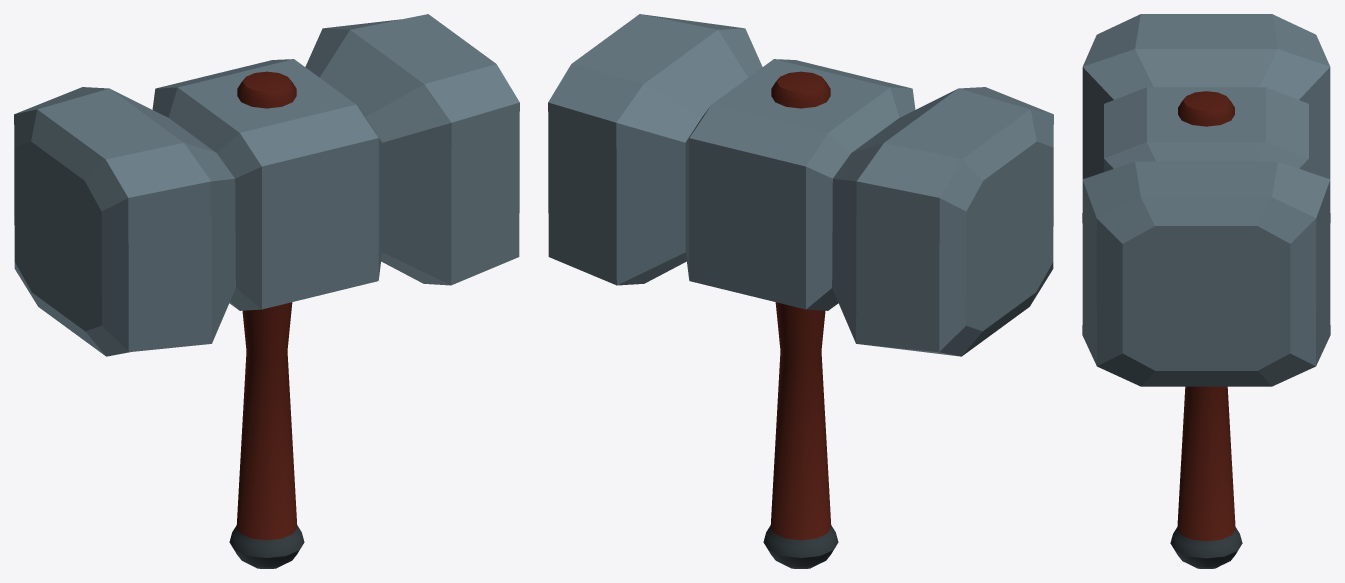
The model's file is hammer_uncommon.obj.
3 renders of one model, left to right at view 1: azimuth 30°, elevation 25°; view 2: azimuth 150°, elevation 25°; view 3: azimuth 270°, elevation 25°, orthographic. The views are drawn at different scales.
Parts seen in each view (by area): view 1: hammer_uncommon_Cube.1975; view 2: hammer_uncommon_Cube.1975; view 3: hammer_uncommon_Cube.1975.
Part boxes in pixels (x1,y1,x2,y2): hammer_uncommon_Cube.1975: (14, 14, 519, 568); hammer_uncommon_Cube.1975: (548, 14, 1053, 568); hammer_uncommon_Cube.1975: (1082, 14, 1330, 568).
Bounding box in the file's own units: 0.7876 × 0.8701 × 0.421.
